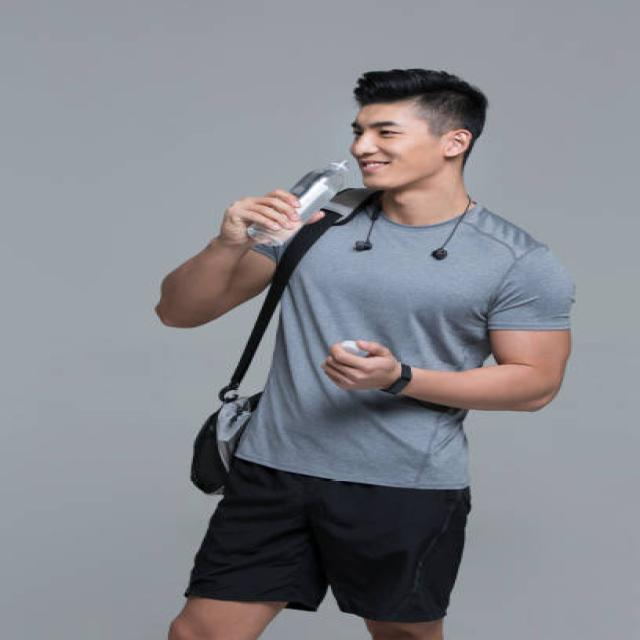Neckband: (355, 200, 469, 260)
